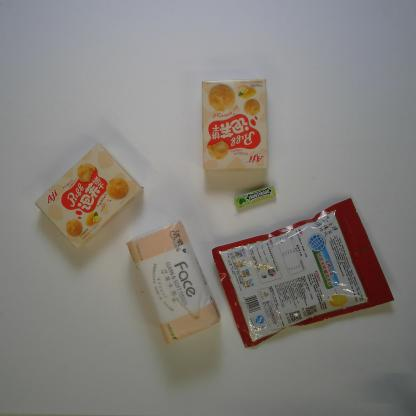Dessert: (34, 142, 145, 250), (199, 74, 270, 175)
Gum: (233, 182, 277, 208)
Instant Drink: (212, 194, 396, 349)
Tissue: (125, 217, 223, 346)
